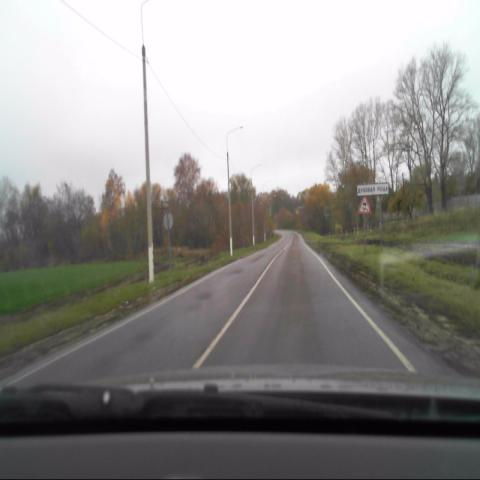1_15: (358, 196, 371, 214)
